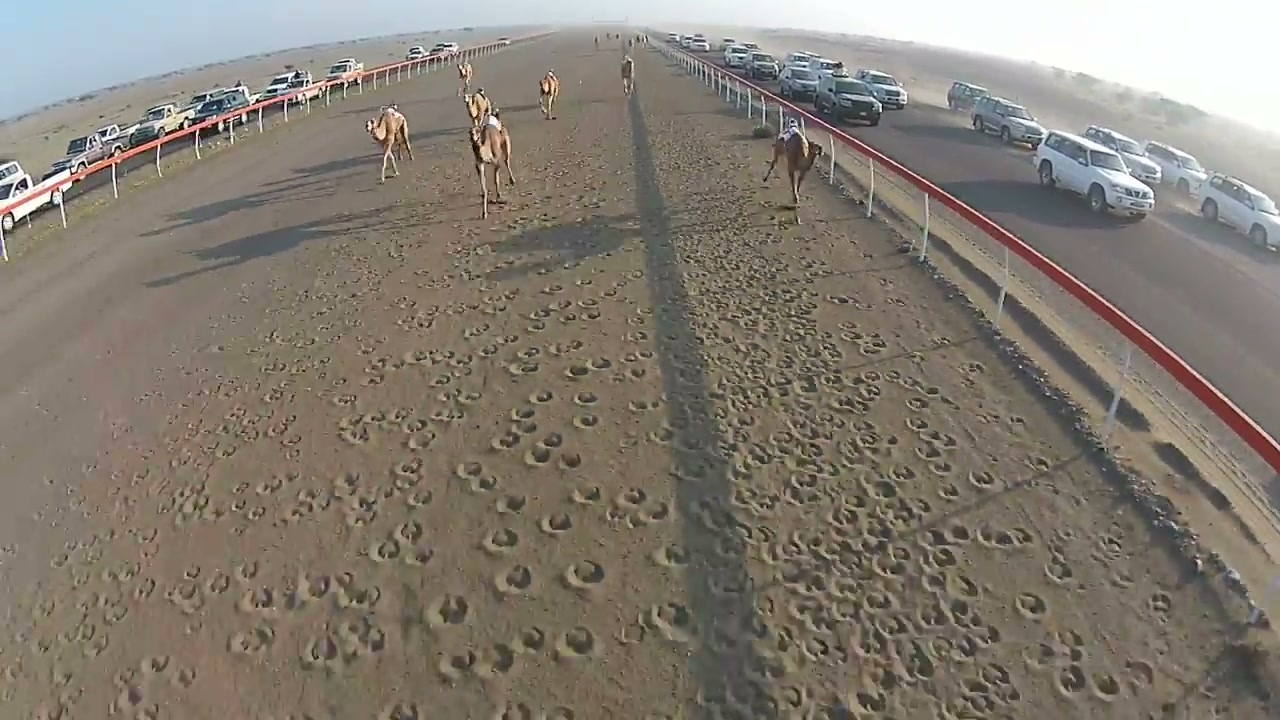animal_foot_print: (0, 35, 1266, 719), (673, 231, 1142, 716), (333, 260, 671, 692), (456, 342, 619, 492), (227, 568, 403, 676), (152, 448, 323, 534), (337, 354, 481, 450), (171, 361, 300, 466), (434, 625, 602, 688), (466, 468, 589, 547), (1022, 631, 1152, 702), (312, 457, 435, 532), (490, 390, 599, 470), (235, 569, 381, 624), (19, 589, 138, 656), (98, 655, 197, 716), (365, 492, 435, 567), (950, 662, 1022, 713), (695, 677, 776, 715), (604, 487, 674, 527), (765, 680, 842, 713), (682, 500, 739, 544), (333, 615, 387, 661), (926, 572, 984, 613), (741, 647, 798, 688), (640, 603, 697, 644), (140, 655, 198, 692), (279, 485, 334, 524), (524, 433, 580, 469), (915, 429, 957, 477), (341, 488, 388, 530), (288, 571, 337, 609), (335, 571, 382, 610), (472, 642, 521, 679), (837, 684, 890, 715), (237, 585, 285, 619), (555, 625, 600, 661), (336, 414, 388, 445), (454, 461, 501, 494), (106, 683, 152, 716), (299, 633, 341, 669), (976, 524, 1036, 549), (563, 560, 605, 595), (227, 624, 274, 655), (171, 487, 209, 525), (902, 642, 939, 681), (166, 578, 206, 614), (871, 546, 914, 579), (428, 595, 472, 627), (974, 408, 1028, 434), (493, 564, 538, 595), (625, 500, 673, 526), (615, 349, 655, 379), (1120, 658, 1155, 691), (392, 455, 424, 490), (1054, 664, 1088, 696), (564, 357, 613, 379), (611, 618, 648, 647), (481, 527, 519, 555), (331, 471, 367, 499), (377, 700, 428, 719), (512, 625, 546, 653), (1090, 671, 1121, 701), (1091, 533, 1124, 561), (255, 473, 297, 495), (1045, 553, 1074, 584), (491, 700, 537, 719), (508, 404, 536, 435), (128, 526, 159, 554), (1015, 592, 1048, 618), (367, 538, 401, 562), (1024, 453, 1055, 479), (652, 545, 688, 567), (539, 513, 573, 535), (232, 559, 260, 585), (507, 357, 543, 377), (494, 493, 528, 514), (490, 428, 522, 450), (570, 484, 602, 505), (205, 570, 232, 594), (968, 470, 1000, 490), (1148, 591, 1172, 617), (130, 578, 156, 601), (648, 422, 675, 444), (404, 489, 434, 508), (539, 705, 579, 719), (959, 360, 986, 380), (1110, 567, 1134, 587), (572, 412, 600, 429), (1003, 413, 1026, 432)
